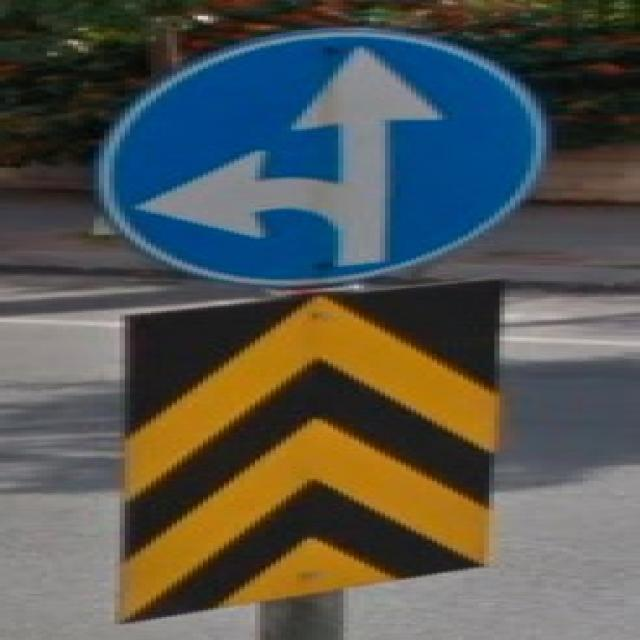Straight or Left: (102, 30, 545, 287)
